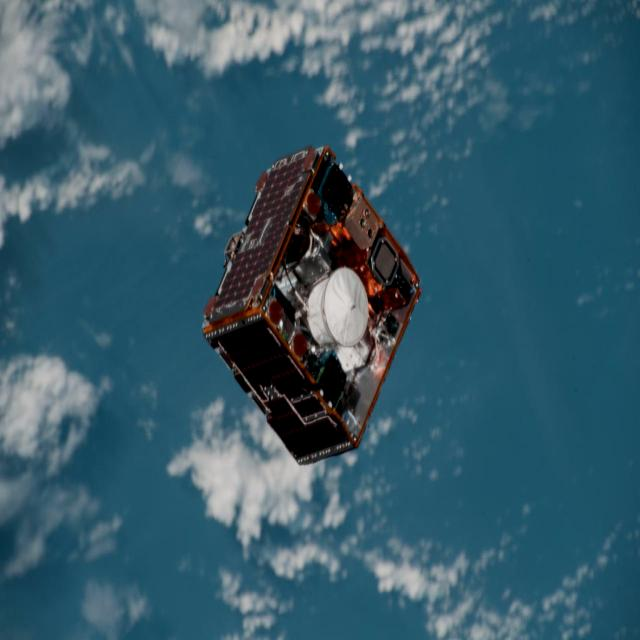medium_debris: (202, 146, 420, 463)
